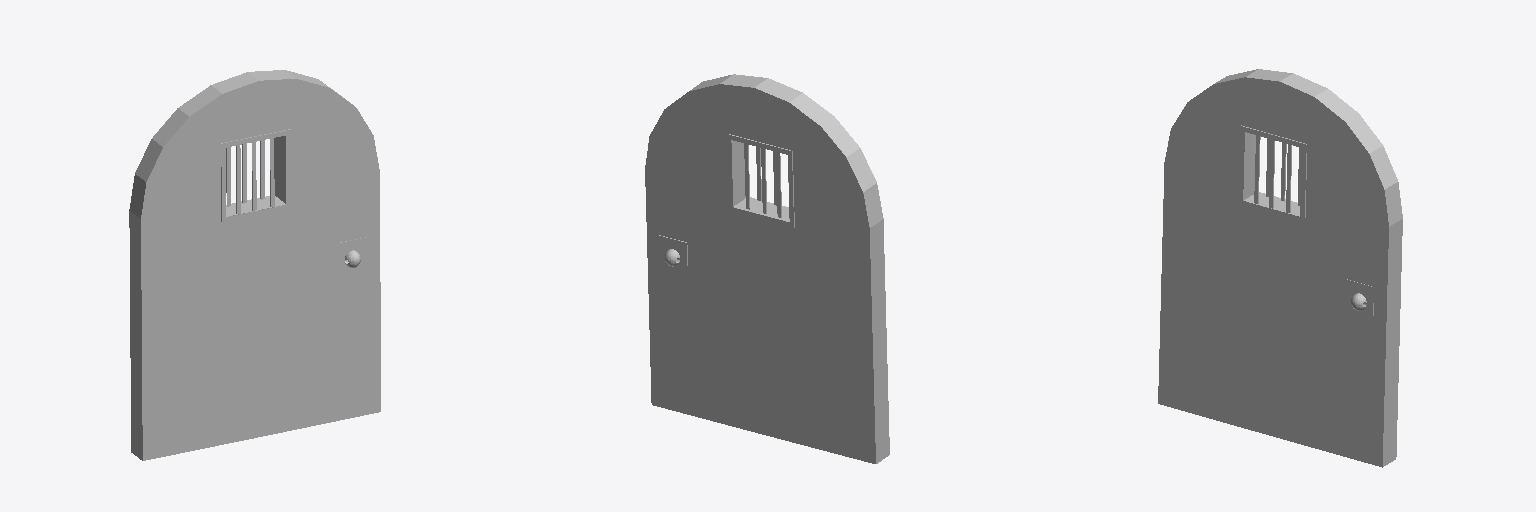
Rendered from door_arch.obj.
The picture shows the model from 3 angles: view 1: azimuth 30°, elevation 25°; view 2: azimuth 150°, elevation 25°; view 3: azimuth 330°, elevation 25°; orthographic projection.
Visible parts, largest first — view 1: Door_arch_Door_B_1.001; view 2: Door_arch_Door_B_1.001; view 3: Door_arch_Door_B_1.001.
Part boxes in pixels (left/top/right/bottom): Door_arch_Door_B_1.001: left=129, top=70, right=380, bottom=460; Door_arch_Door_B_1.001: left=645, top=74, right=889, bottom=463; Door_arch_Door_B_1.001: left=1158, top=69, right=1402, bottom=467.
Size of the model in its own units: 357 by 511 by 68.03.